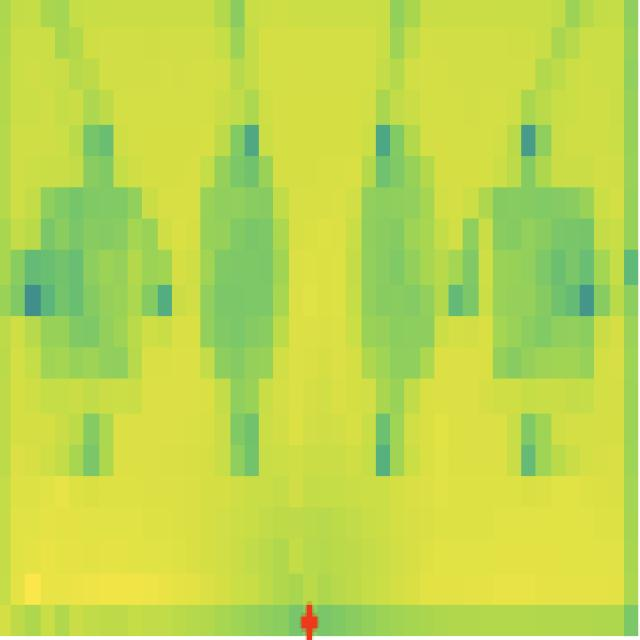Concrete: (41, 186, 142, 390)
Glass: (492, 185, 595, 381)
Metal: (201, 187, 291, 377)
Wood: (361, 164, 438, 386)
